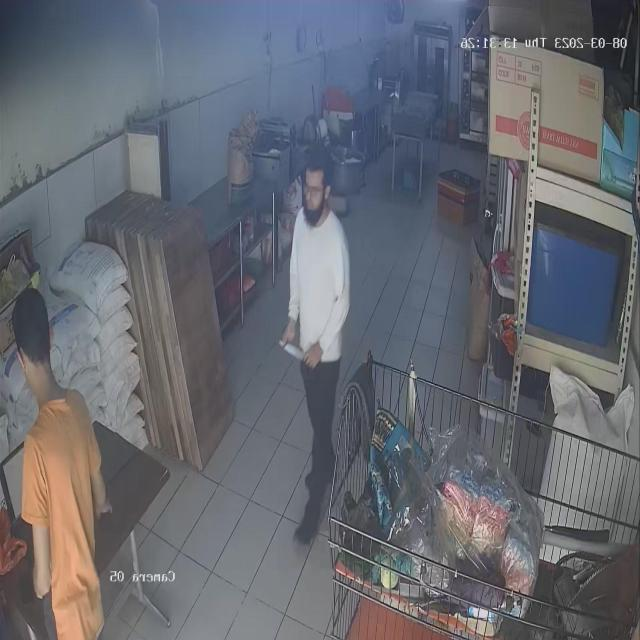Knife: (276, 330, 321, 381)
